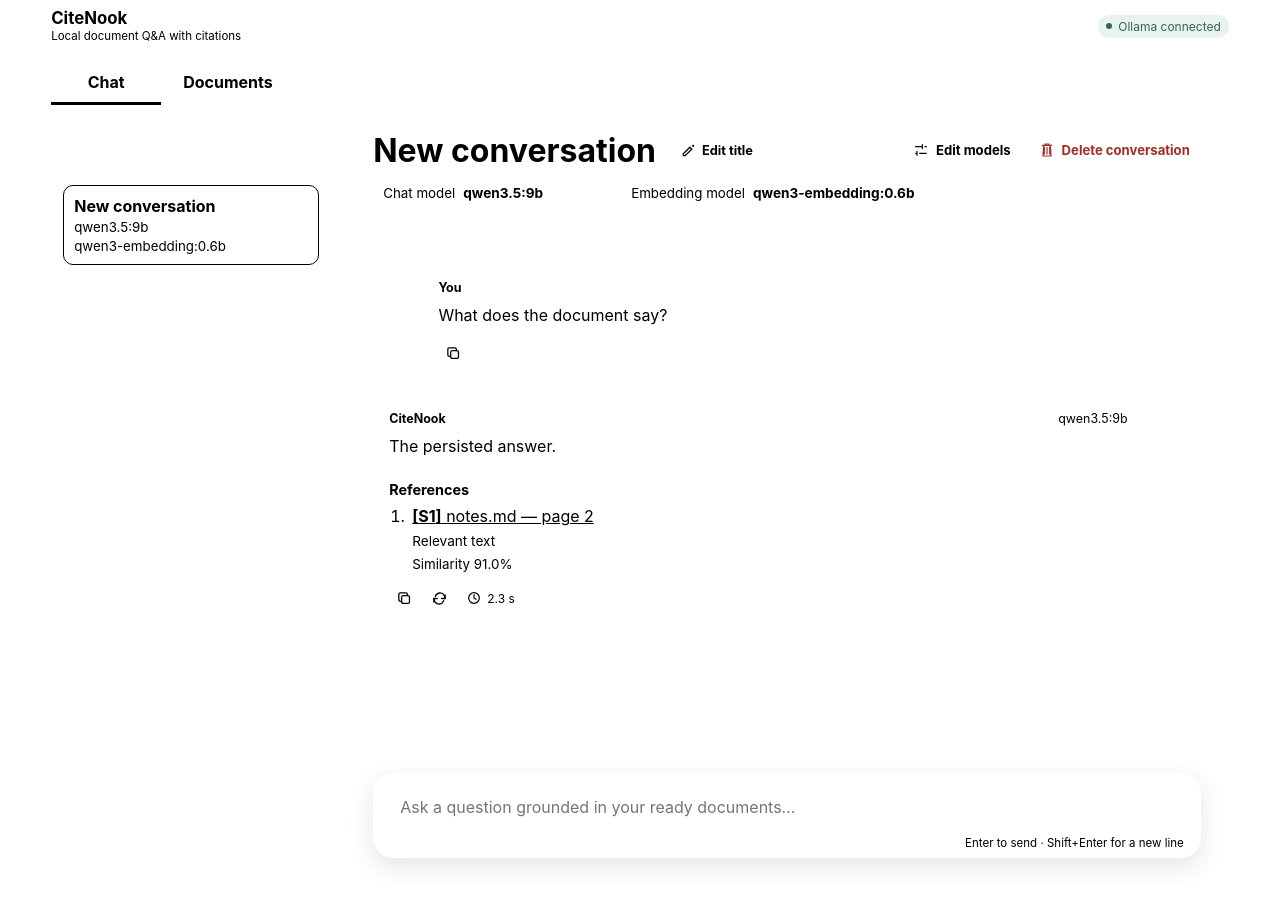
Test case: persistent conversation history › copies complete message text and reports clipboard success
Click the button named "Copy message 2" at (404, 598), box [389, 583, 419, 613]
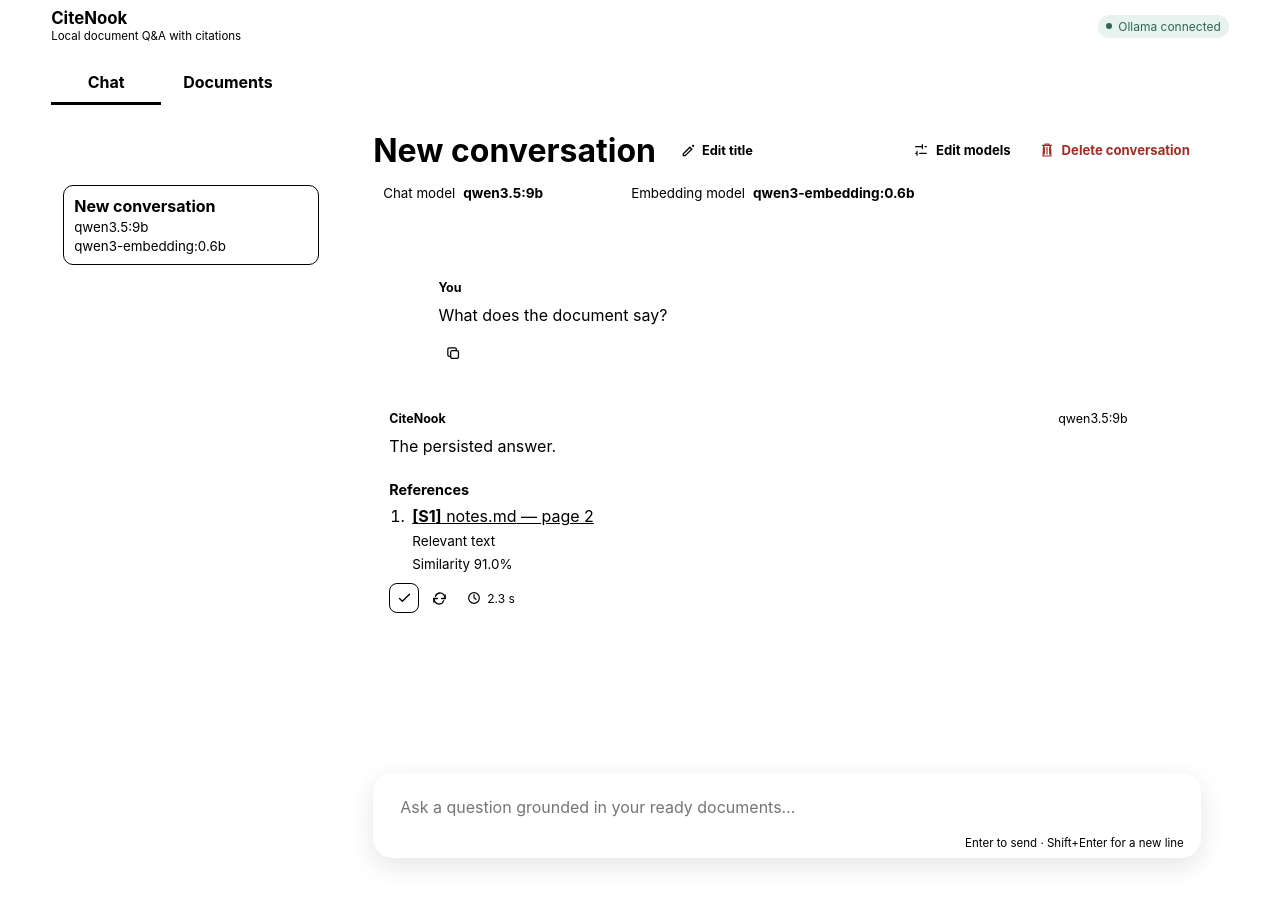
Check: the text "The persisted answer." is shown, box [389, 436, 556, 456]
Check: the button named "Copied message 2" is shown, box [389, 583, 419, 613]
